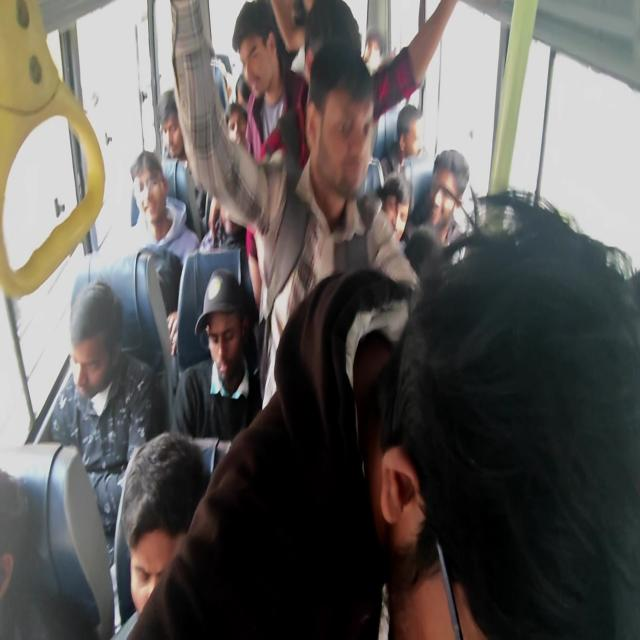person: (383, 208, 632, 635), (120, 430, 212, 622), (176, 249, 256, 385), (306, 44, 378, 195), (131, 152, 200, 272), (213, 102, 259, 247), (0, 464, 38, 634), (232, 1, 284, 99), (303, 0, 358, 83), (382, 518, 440, 593), (68, 279, 122, 351), (114, 476, 138, 626), (403, 157, 439, 230), (429, 163, 473, 208), (190, 436, 234, 476), (396, 114, 426, 160), (160, 109, 183, 160), (226, 99, 249, 144), (131, 182, 140, 227)
